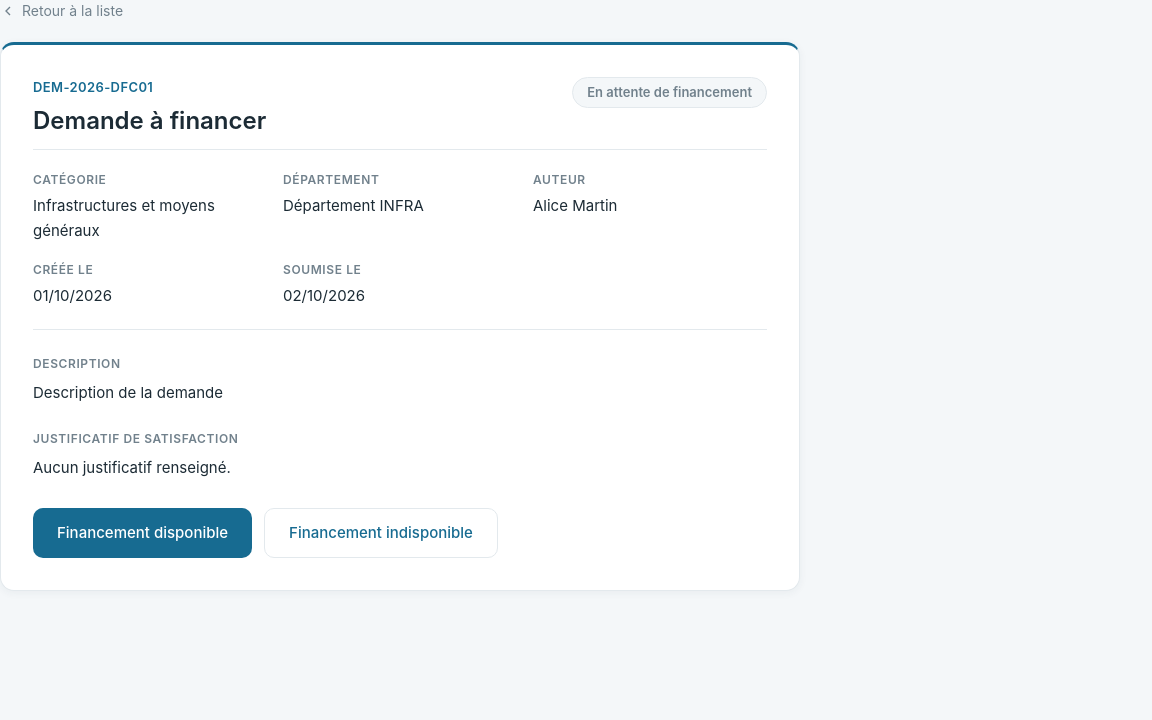
DFC UI : une erreur 403 est affichée sans modifier le statut
Click the button "Financement disponible".
click(142, 533)  # box [33, 508, 252, 558]
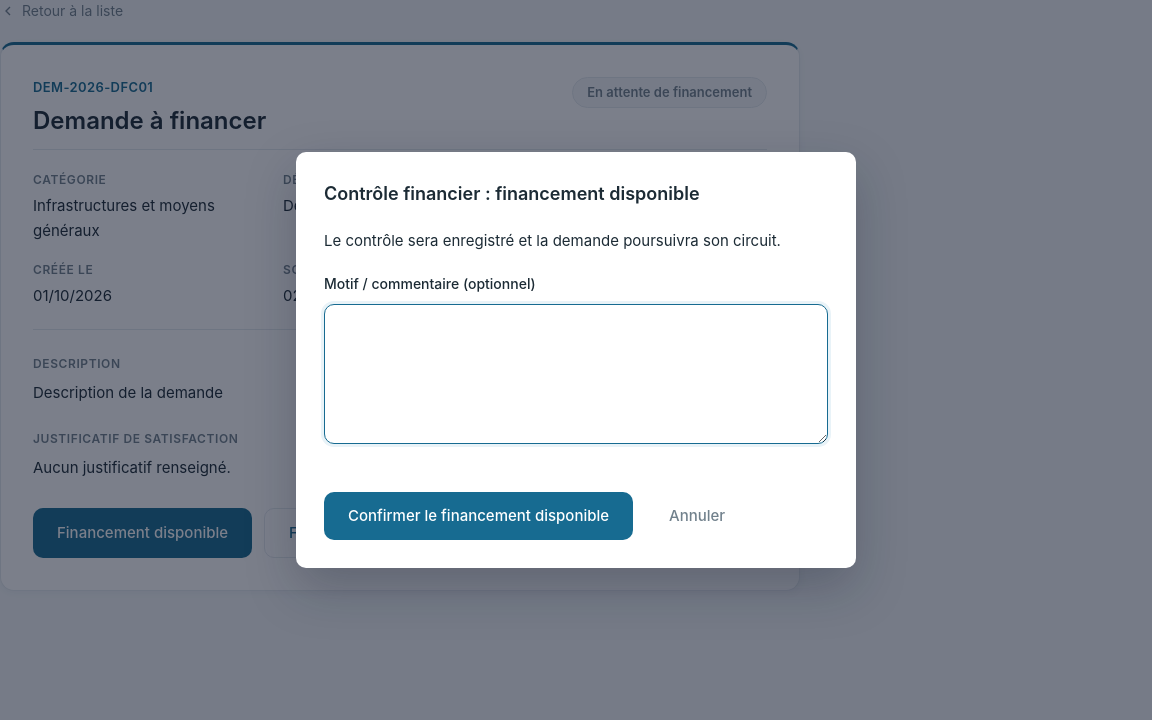
Click the button "Confirmer le financement disponible".
click(479, 516)  # box [324, 492, 633, 540]
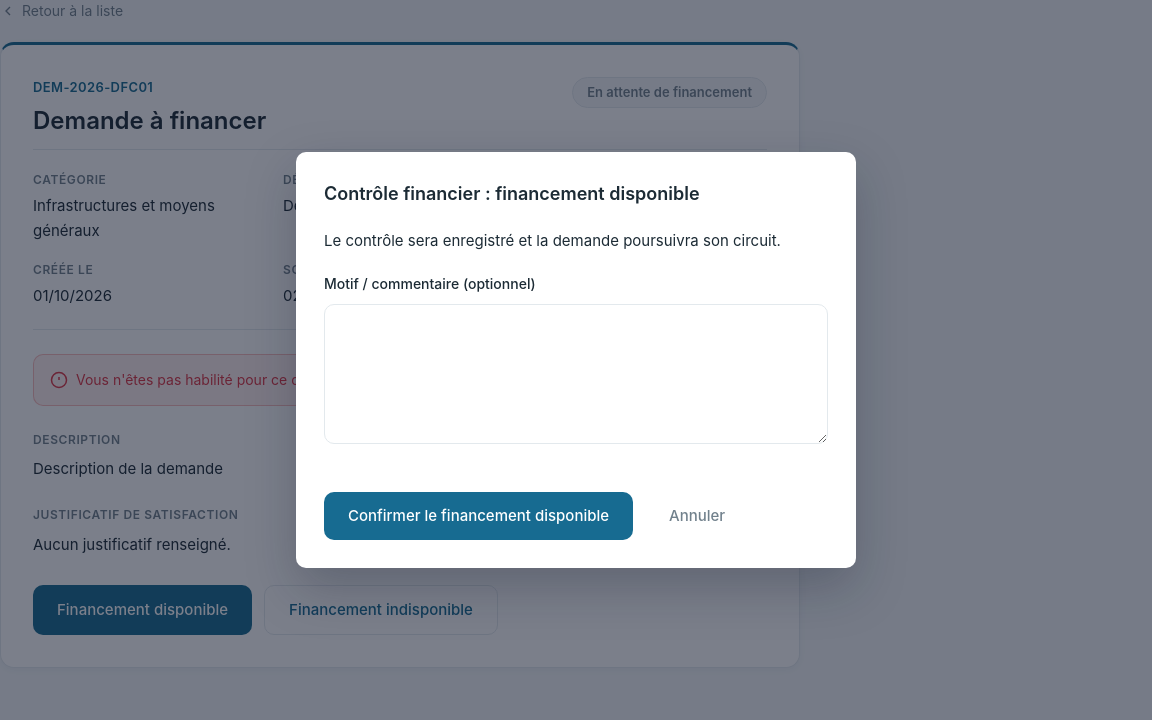
Result: the message "Vous n'êtes pas habilité pour ce département" is shown at [33, 354, 767, 406]
